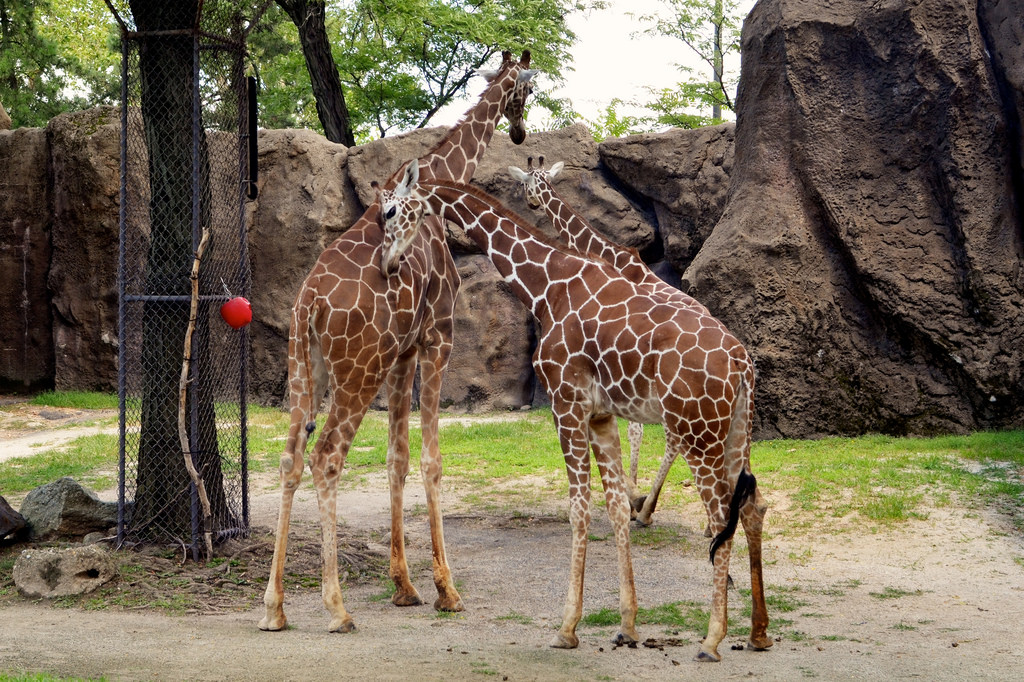giraffe: (389, 158, 784, 646), (247, 39, 549, 660)
